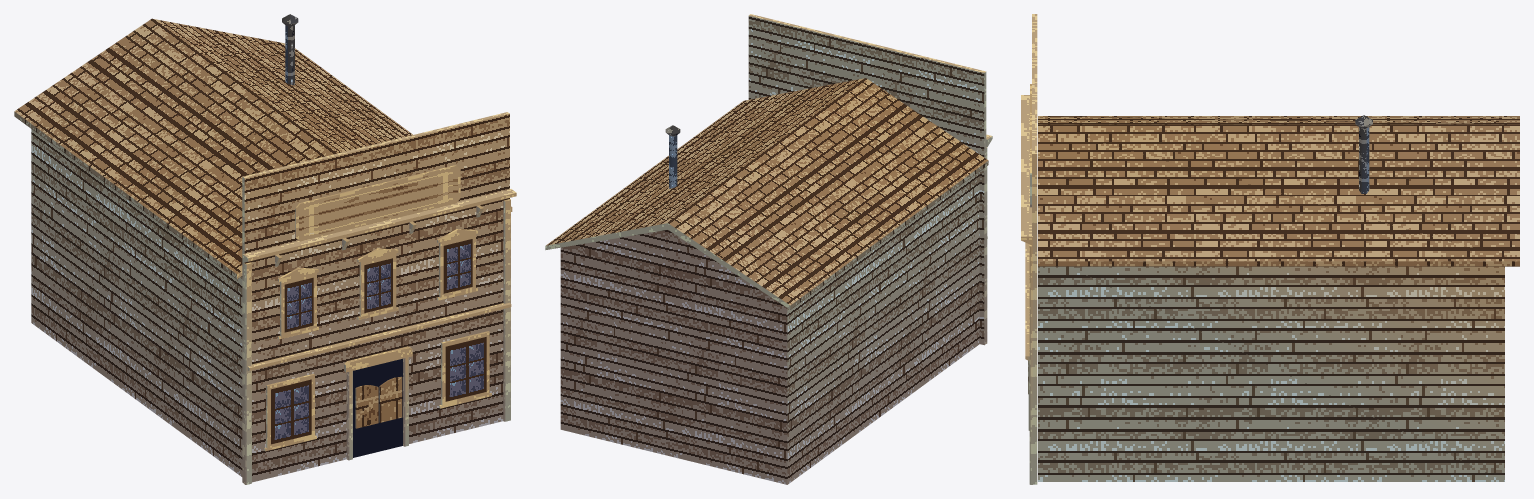
File: wtown.saloon__plain.glb
3 views of the same model, side by side, from view 1: azimuth 30°, elevation 25°; view 2: azimuth 150°, elevation 25°; view 3: azimuth 270°, elevation 25° (orthographic). The views are drawn at different scales.
Visible parts, largest first — view 1: kit_front, kit_roof, kit_body, kit_card_panes, kit_trim, kit_windows, kit_door, kit_stovepipe; view 2: kit_body, kit_roof, kit_front, kit_stovepipe; view 3: kit_body, kit_roof, kit_trim, kit_front, kit_stovepipe.
Boxes of the visible parts, x1=… form: kit_front: x1=242, y1=112, x2=509, y2=483; kit_roof: x1=14, y1=18, x2=512, y2=278; kit_body: x1=31, y1=129, x2=242, y2=476; kit_card_panes: x1=271, y1=168, x2=486, y2=457; kit_trim: x1=242, y1=165, x2=516, y2=484; kit_windows: x1=264, y1=229, x2=491, y2=451; kit_door: x1=355, y1=376, x2=402, y2=428; kit_stovepipe: x1=282, y1=14, x2=298, y2=85; kit_body: x1=560, y1=172, x2=979, y2=484; kit_roof: x1=545, y1=78, x2=988, y2=309; kit_front: x1=748, y1=14, x2=986, y2=345; kit_stovepipe: x1=665, y1=125, x2=680, y2=188; kit_body: x1=1038, y1=266, x2=1504, y2=481; kit_roof: x1=1038, y1=116, x2=1519, y2=266; kit_trim: x1=1021, y1=84, x2=1032, y2=484; kit_front: x1=1032, y1=14, x2=1037, y2=484; kit_stovepipe: x1=1355, y1=115, x2=1372, y2=193.
Bounding box in the file's own units: 8.1 × 8.7 × 11.75.
Materials: 8 (8 with a texture image).
